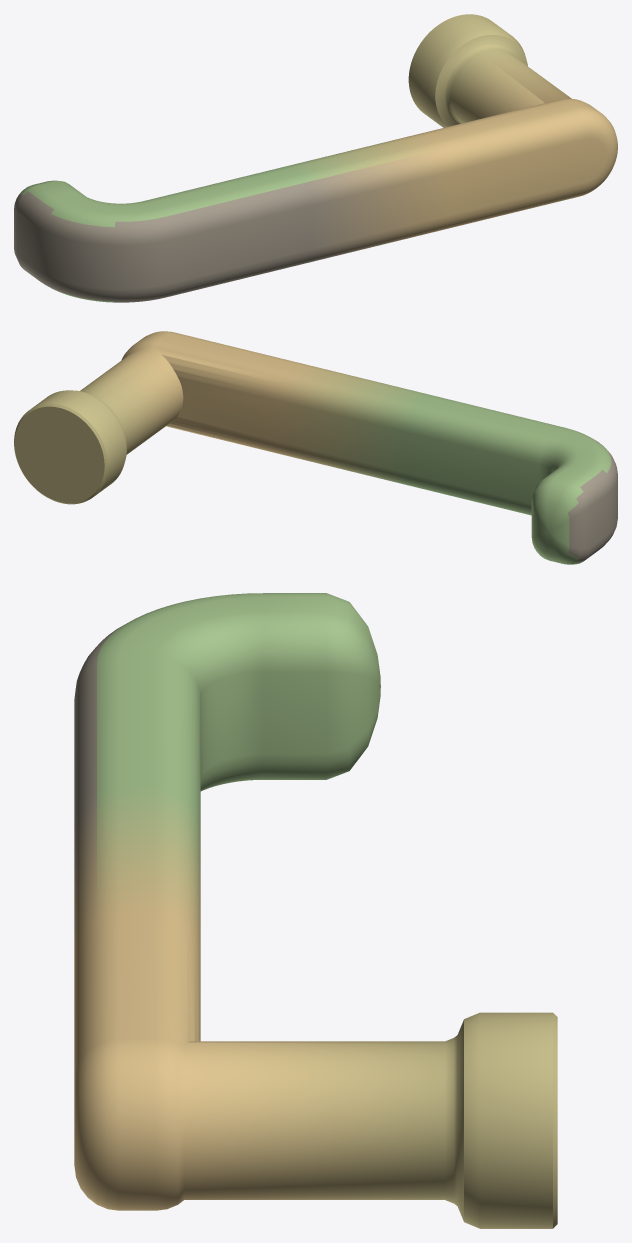
File: Kit_Lock_Lever_Brass.fbx
3 renders of one model, top to bottom at view 1: azimuth 30°, elevation 25°; view 2: azimuth 150°, elevation 25°; view 3: azimuth 270°, elevation 25°, orthographic. The views are drawn at different scales.
Visible parts, largest first — view 1: Kit_Lock_Lever_LOD0; view 2: Kit_Lock_Lever_LOD0; view 3: Kit_Lock_Lever_LOD0.
Part boxes in pixels (x1,y1,x2,y2): Kit_Lock_Lever_LOD0: (14,14,617,302); Kit_Lock_Lever_LOD0: (14,331,617,564); Kit_Lock_Lever_LOD0: (74,593,557,1228).
Size of what is drawn, in the model's own units: 0.133 by 0.024 by 0.0536.
